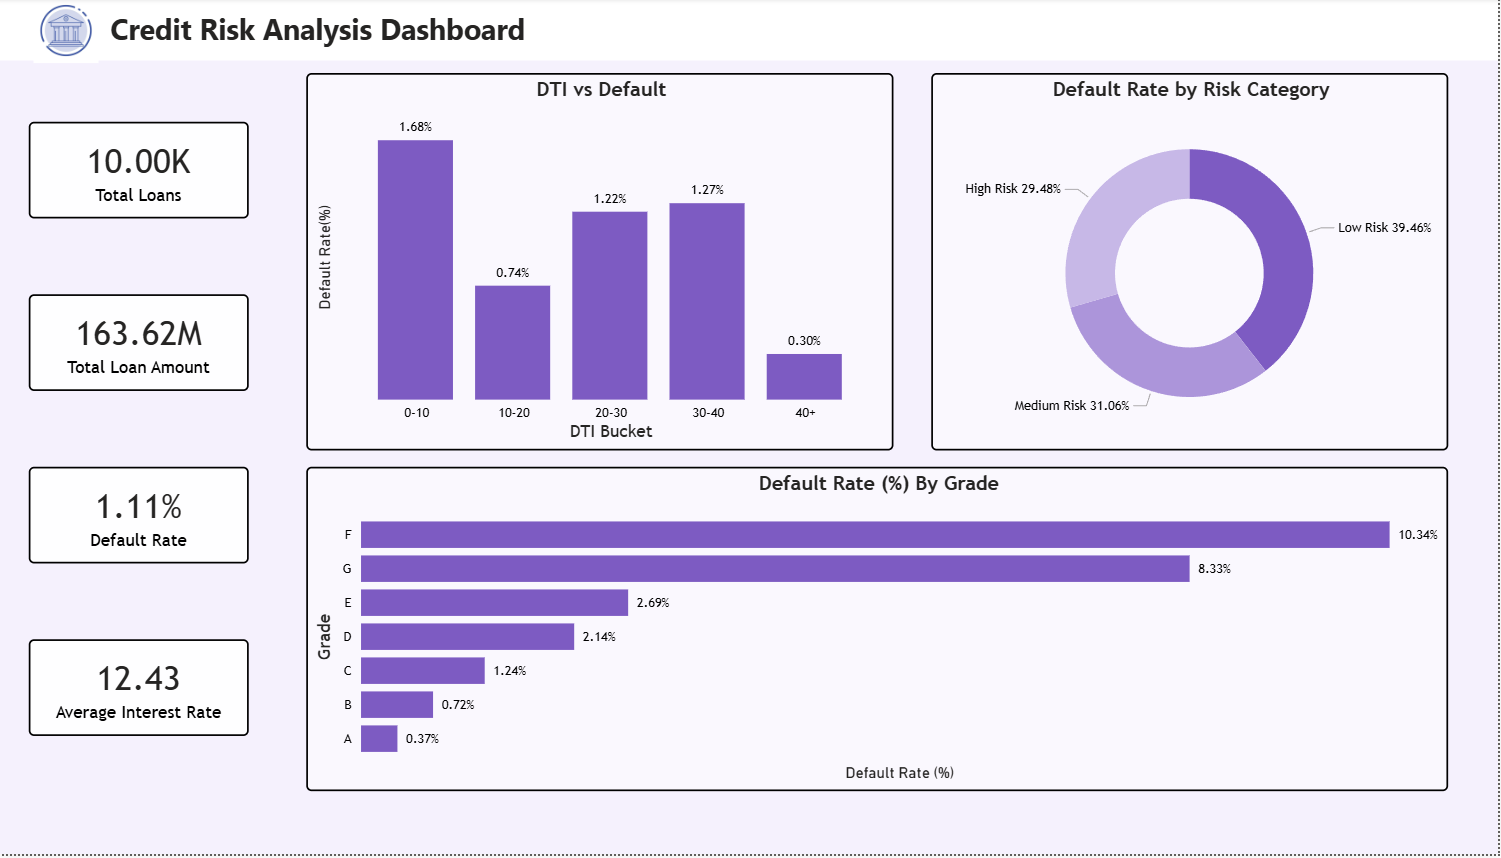

Layout of this report page (visuals, bound fields, positions):
{"tool":"powerbi","page":{"name":"Risk Analysis Dashboard","canvas":[1400,800],"ordinal":0},"visuals":[{"type":"card","fields":{"Values":["CountNonNull(loans_analytics.loan_amount)"]},"box":[27.1,116.2,205.6,90],"z":0},{"type":"card","fields":{"Values":["Sum(loans_analytics.loan_amount)"]},"box":[27.1,277.3,205.6,90],"z":1000},{"type":"card","fields":{"Values":["loans_analytics.Default Rate"]},"box":[27.1,438.4,205.6,90],"z":2000},{"type":"card","fields":{"Values":["Avg(loans_analytics.interest_rate)"]},"box":[27.1,599.6,205.6,90],"z":3000},{"type":"donutChart","title":"Default Rate by Risk Category","fields":{"Category":["loans_analytics.risk_category"],"Y":["Avg(loans_analytics.default_flag)"]},"box":[870,70,482.9,352.9],"z":4000},{"type":"clusteredBarChart","title":"Default Rate (%) By Grade","fields":{"Y":["Avg(loans_analytics.default_flag)"],"Category":["loans_analytics.grade"]},"box":[285.7,438.6,1067.1,302.9],"z":5000},{"type":"clusteredColumnChart","title":"DTI vs Default","fields":{"Category":["loans_analytics.DTI Bucket"],"Y":["Avg(loans_analytics.default_flag)"]},"box":[285.7,70,548.6,352.9],"z":6000},{"type":"shape","box":[0,0,1400,58.6],"z":7000},{"type":"textbox","box":[98.6,5.7,431.4,48.6],"z":8000},{"type":"image","box":[25.7,0,72.4,60.7],"z":8001}]}

Visuals, with their boxes in screenshot pixels (x1, y1, x2, y2), scaled from the page's 1400x800 canvas onto the 1501x858 screenshot:
card - CountNonNull(loans_analytics.loan_amount): l=29, t=125, r=249, b=221
card - Sum(loans_analytics.loan_amount): l=29, t=297, r=249, b=394
card - loans_analytics.Default Rate: l=29, t=470, r=249, b=567
card - Avg(loans_analytics.interest_rate): l=29, t=643, r=249, b=740
"Default Rate by Risk Category" donutChart: l=933, t=75, r=1451, b=454
"Default Rate (%) By Grade" clusteredBarChart: l=306, t=470, r=1450, b=795
"DTI vs Default" clusteredColumnChart: l=306, t=75, r=894, b=454
shape: l=0, t=0, r=1500, b=63
textbox: l=106, t=6, r=568, b=58
image: l=28, t=0, r=105, b=65
